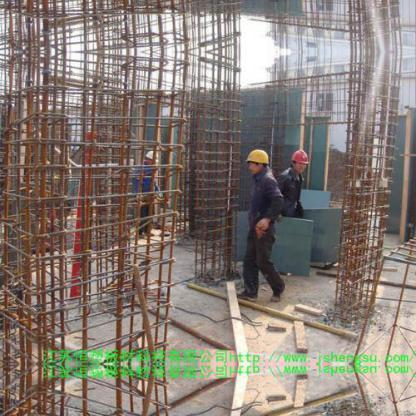helmet: (239, 138, 275, 174), (286, 146, 312, 171)
